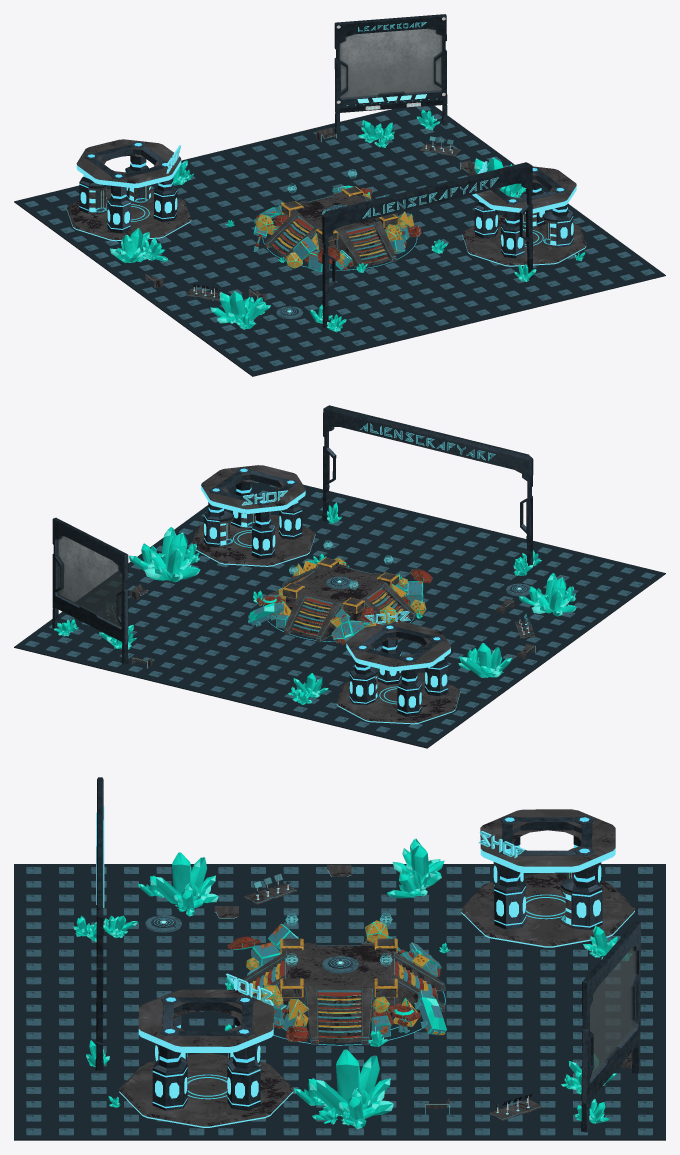
Rendered from as_enviroment_20260902.glb.
3 renders of one model, top to bottom at view 1: azimuth 30°, elevation 25°; view 2: azimuth 150°, elevation 25°; view 3: azimuth 270°, elevation 25°, orthographic. The views are drawn at different scales.
Visible parts, largest first — view 1: Floor_Base.001, Floor_P_0_0.002, defaultMaterial.002, defaultMaterial.001, defaultMaterial, Dome_Rock_0.002, Dome_Rock_0.003, Dome_Base1.002, Dome_Base1, Dome_Body.001, Escalera, Dome_Body (+4 smaller); view 2: Floor_Base.001, Floor_P_0_0.002, defaultMaterial.001, Dome_Rock_0.002, defaultMaterial.002, defaultMaterial, Dome_Rock_0.003, Dome_Base1.002, Dome_Base1, Dome_Body.001, Dome_Body, Base.001 (+9 smaller); view 3: Floor_Base.001, Floor_P_0_0.002, Dome_Base1, Dome_Base1.002, Dome_Rock_0.003, Dome_Rock_0.002, defaultMaterial, Dome_Body, Dome_Body.001, Base.001, defaultMaterial.002, Escalera (+19 smaller).
Part boxes in pixels (x1=…): Floor_Base.001: x1=14, y1=105, x2=665, y2=376; Floor_P_0_0.002: x1=24, y1=106, x2=654, y2=371; defaultMaterial.002: x1=339, y1=28, x2=442, y2=98; defaultMaterial.001: x1=322, y1=162, x2=533, y2=328; defaultMaterial: x1=334, y1=14, x2=447, y2=133; Dome_Rock_0.002: x1=79, y1=141, x2=177, y2=233; Dome_Rock_0.003: x1=474, y1=167, x2=573, y2=258; Dome_Base1.002: x1=66, y1=189, x2=191, y2=241; Dome_Base1: x1=462, y1=215, x2=586, y2=266; Dome_Body.001: x1=76, y1=139, x2=181, y2=188; Escalera: x1=271, y1=218, x2=388, y2=266; Dome_Body: x1=472, y1=166, x2=576, y2=213; Floor_Base.001: x1=14, y1=482, x2=665, y2=748; Floor_P_0_0.002: x1=25, y1=481, x2=655, y2=742; defaultMaterial.001: x1=322, y1=405, x2=533, y2=571; Dome_Rock_0.002: x1=349, y1=624, x2=448, y2=716; defaultMaterial.002: x1=56, y1=535, x2=122, y2=627; defaultMaterial: x1=52, y1=517, x2=128, y2=664; Dome_Rock_0.003: x1=203, y1=467, x2=302, y2=559; Dome_Base1.002: x1=336, y1=672, x2=460, y2=724; Dome_Base1: x1=192, y1=515, x2=315, y2=566; Dome_Body.001: x1=346, y1=622, x2=450, y2=671; Dome_Body: x1=201, y1=465, x2=305, y2=513; Base.001: x1=298, y1=565, x2=383, y2=612; Floor_Base.001: x1=14, y1=864, x2=665, y2=1140; Floor_P_0_0.002: x1=26, y1=867, x2=652, y2=1135; Dome_Base1: x1=119, y1=1053, x2=293, y2=1127; Dome_Base1.002: x1=461, y1=873, x2=634, y2=947; Dome_Rock_0.003: x1=152, y1=995, x2=260, y2=1110; Dome_Rock_0.002: x1=493, y1=815, x2=602, y2=929; defaultMaterial: x1=581, y1=921, x2=640, y2=1132; Dome_Body: x1=138, y1=989, x2=273, y2=1052; Dome_Body.001: x1=480, y1=809, x2=615, y2=872; Base.001: x1=285, y1=945, x2=394, y2=1013; defaultMaterial.002: x1=590, y1=947, x2=636, y2=1079; Escalera: x1=243, y1=961, x2=437, y2=1042.
Bounding box in the file's own units: 80 × 22.94 × 80.
12 materials, 6 textured.
